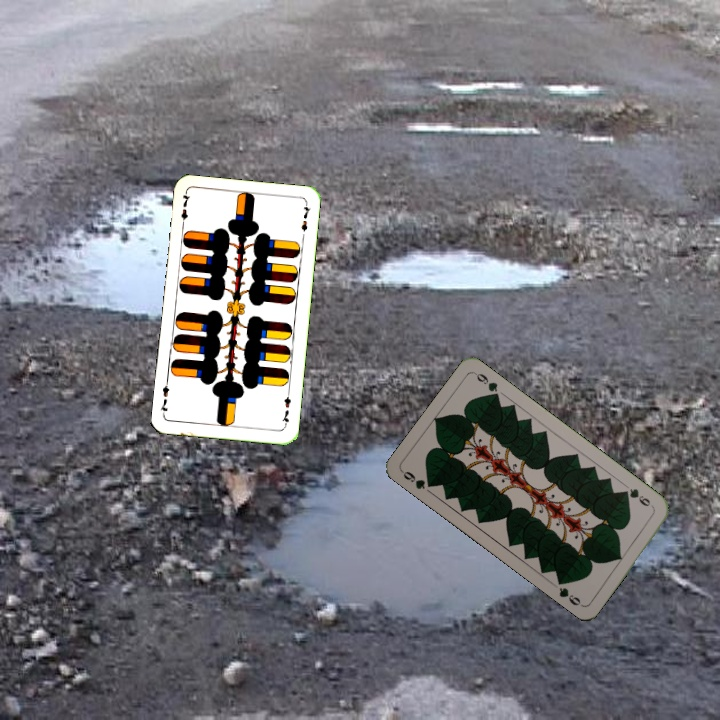E7: (278, 388, 293, 429), (177, 189, 192, 230)
G9: (619, 484, 657, 511), (398, 467, 437, 492)
